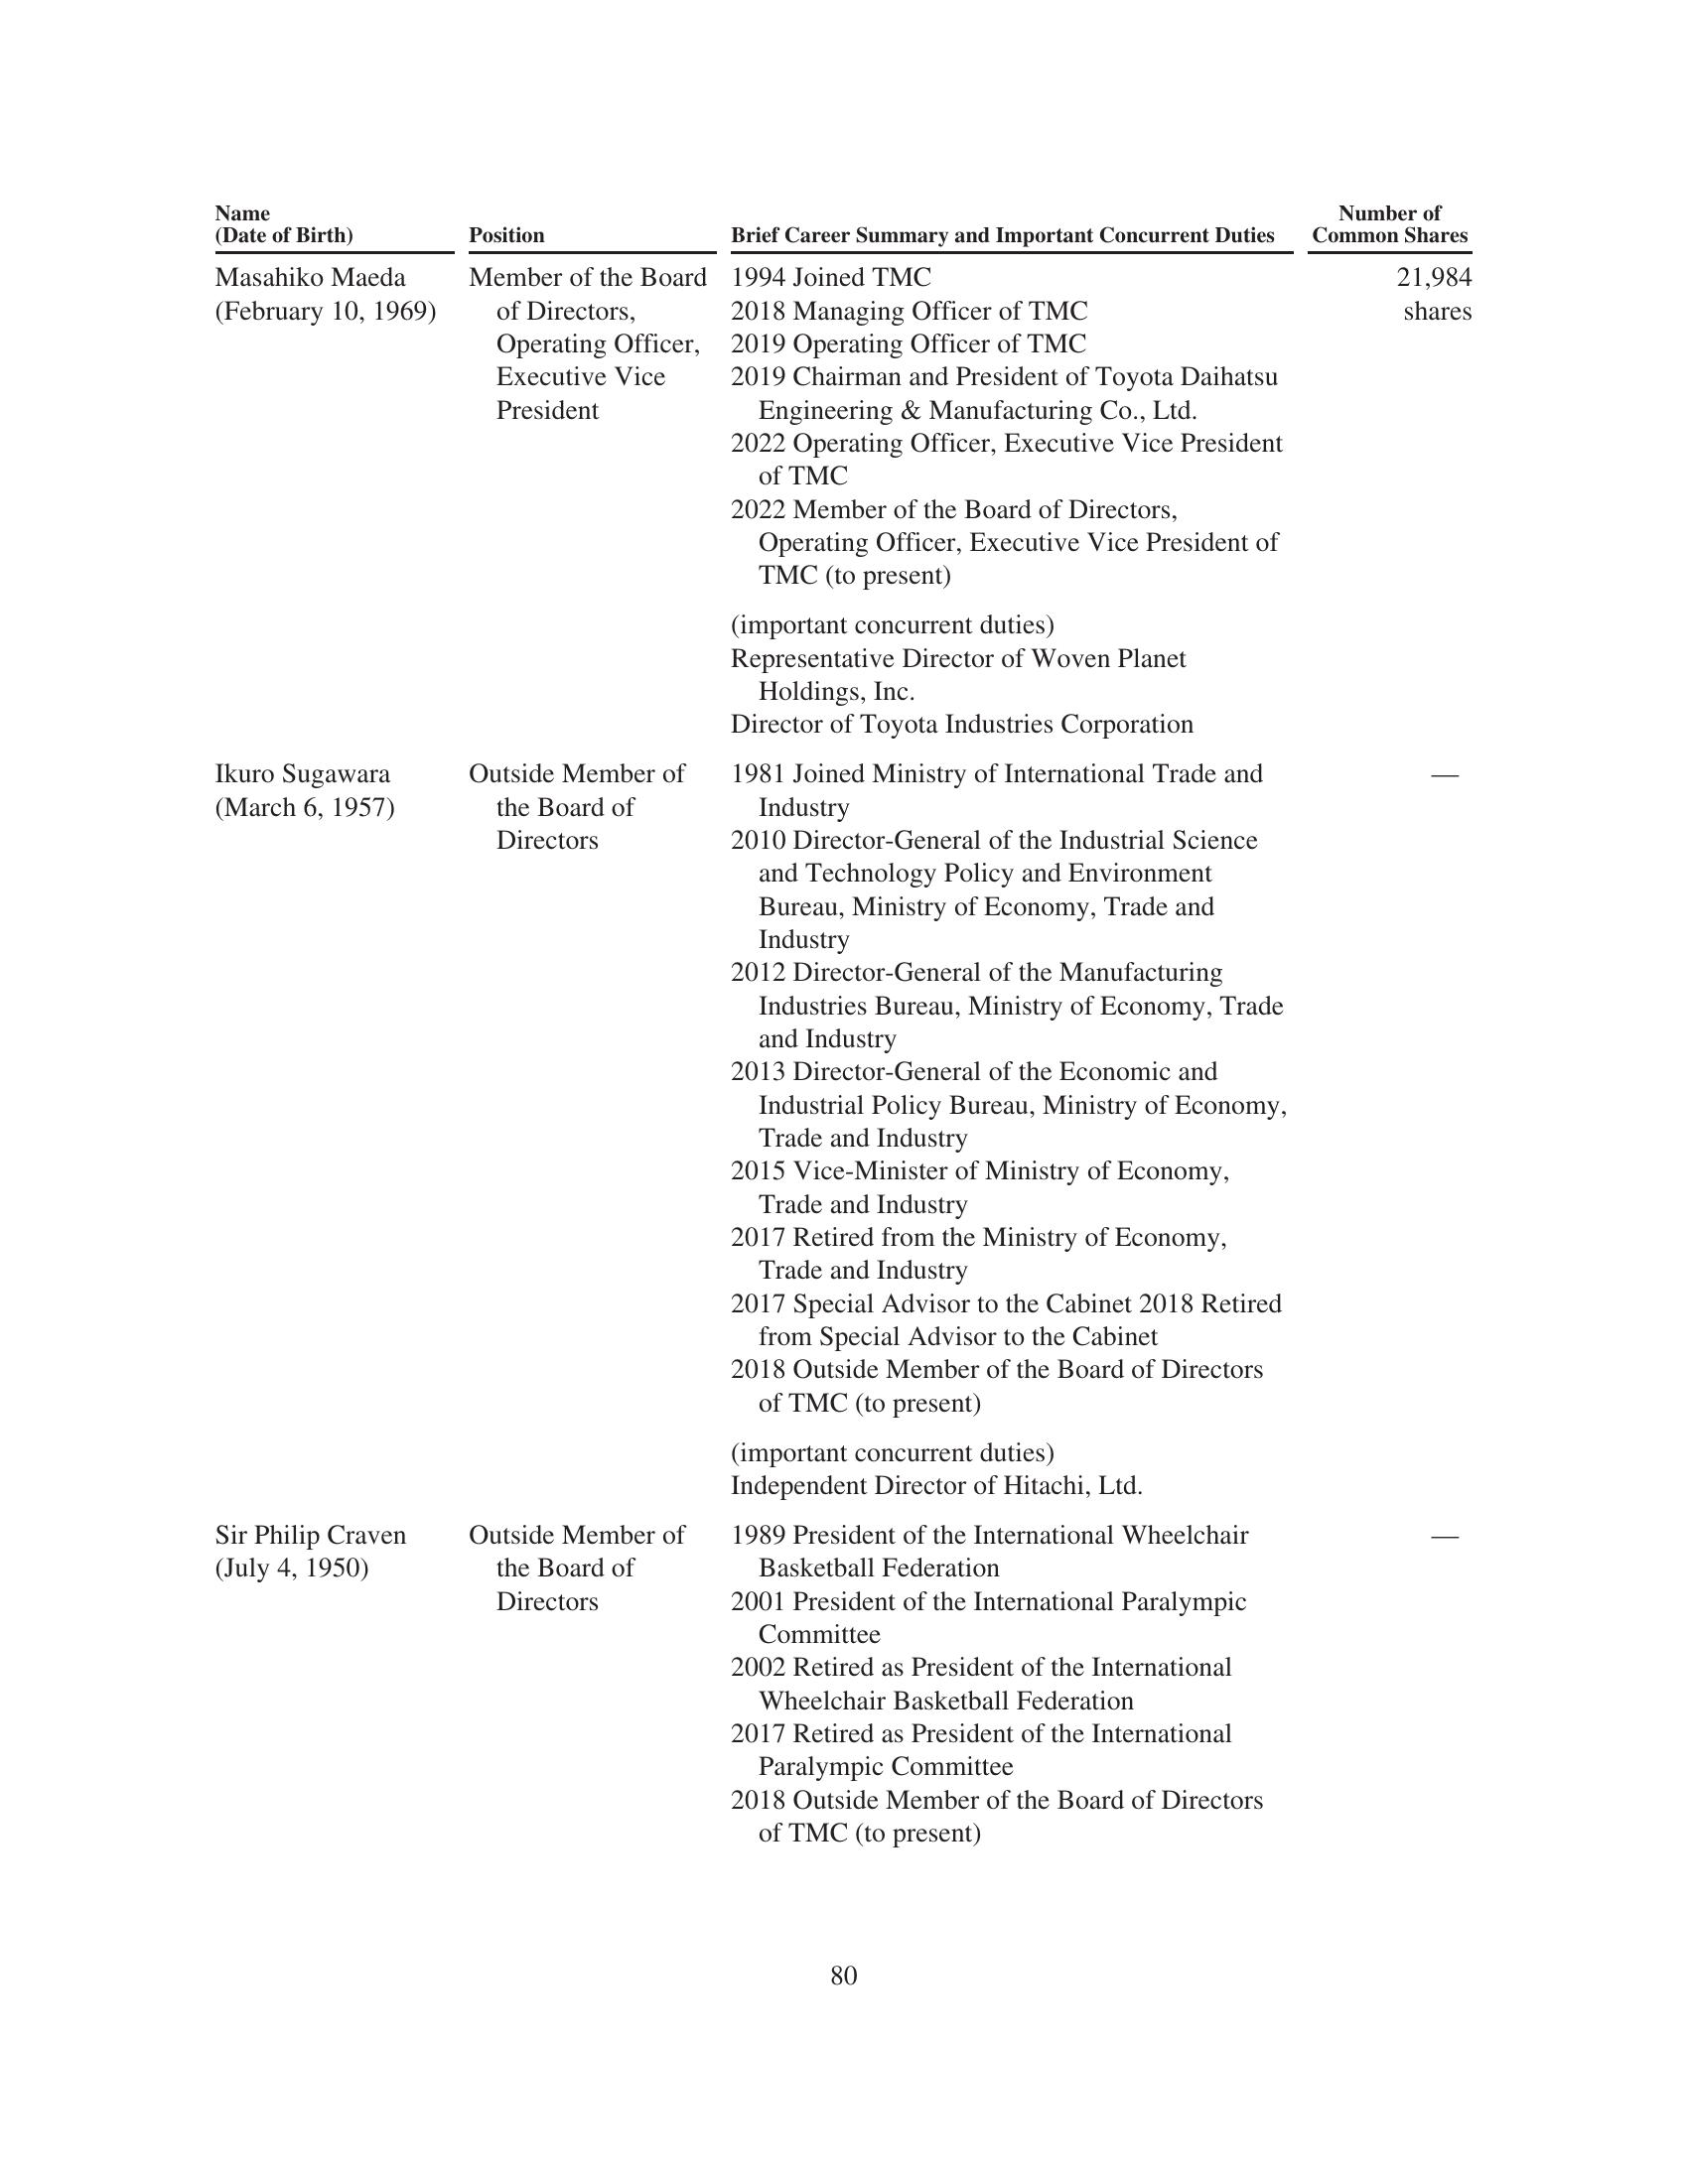Footer: (0, 1946, 1688, 2184)
Header: (0, 0, 1688, 167)
Table: (129, 170, 1534, 1886)
